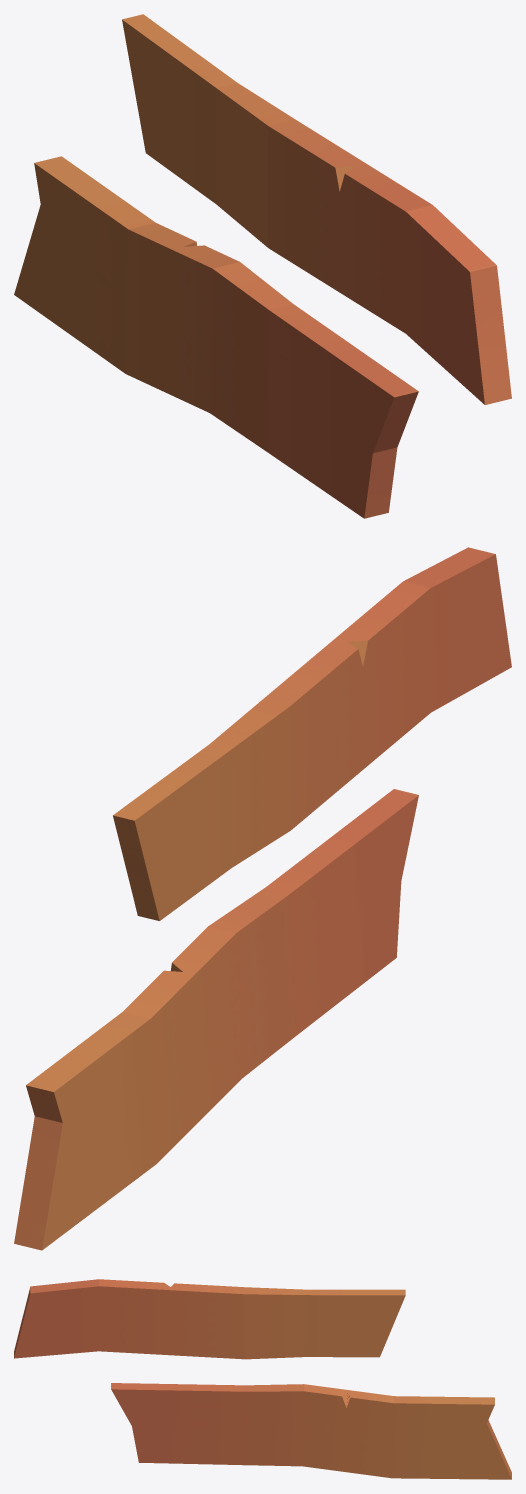
Rendered from fence_post_2.gltf.
The picture shows the model from 3 angles, top to bottom: view 1: azimuth 30°, elevation 25°; view 2: azimuth 150°, elevation 25°; view 3: azimuth 270°, elevation 25°; orthographic projection. The views are drawn at different scales.
Visible parts, largest first — view 1: Cube; view 2: Cube; view 3: Cube.
Part boxes in pixels (<box>): Cube: <box>14,14,511,518</box>; Cube: <box>14,547,511,1250</box>; Cube: <box>14,1279,511,1479</box>.
Size of the model in its own units: 0.1382 by 1.46 by 3.39.
1 material, 1 textured.
